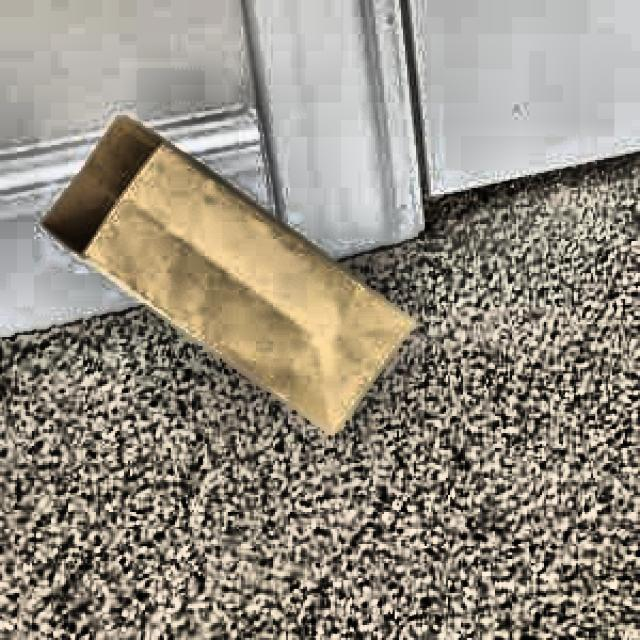Paper-bag: (36, 106, 428, 436)
